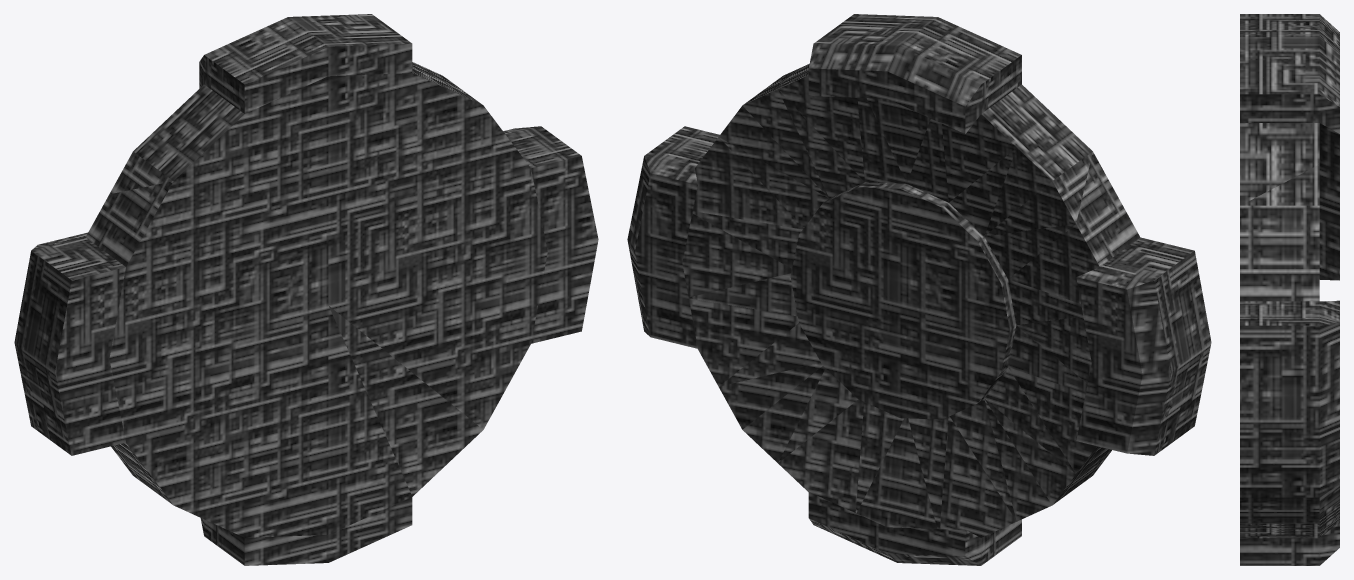
File: travelpad.fbx
The picture shows the model from 3 angles, left to right: view 1: azimuth 30°, elevation 25°; view 2: azimuth 150°, elevation 25°; view 3: azimuth 270°, elevation 25°; orthographic projection. The views are drawn at different scales.
Parts seen in each view (by area): view 1: Cylinder; view 2: Cylinder; view 3: Cylinder.
Boxes of the visible parts, left/top/right/bottom form: Cylinder: left=14, top=14, right=598, bottom=565; Cylinder: left=627, top=14, right=1211, bottom=565; Cylinder: left=1240, top=14, right=1339, bottom=565.
Size of the model in its own units: 3.57 by 3.24 by 0.5793.
1 material, 1 textured.
